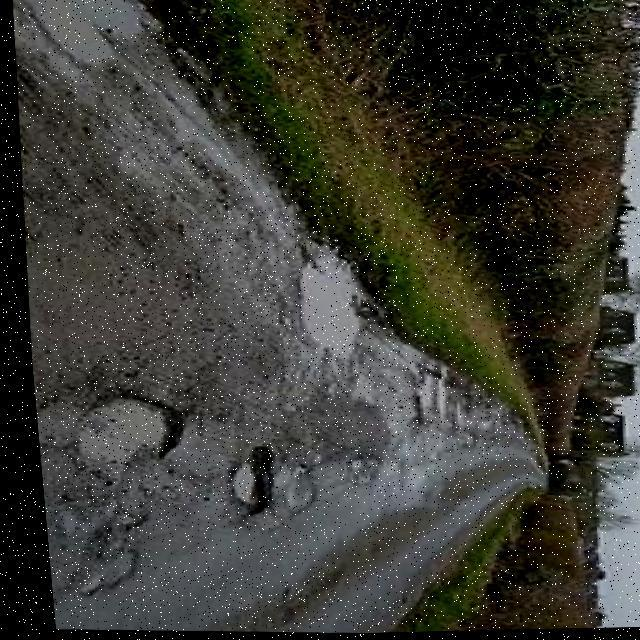pothole: (56, 386, 190, 478), (285, 242, 382, 360), (206, 448, 280, 518), (398, 358, 454, 426)
